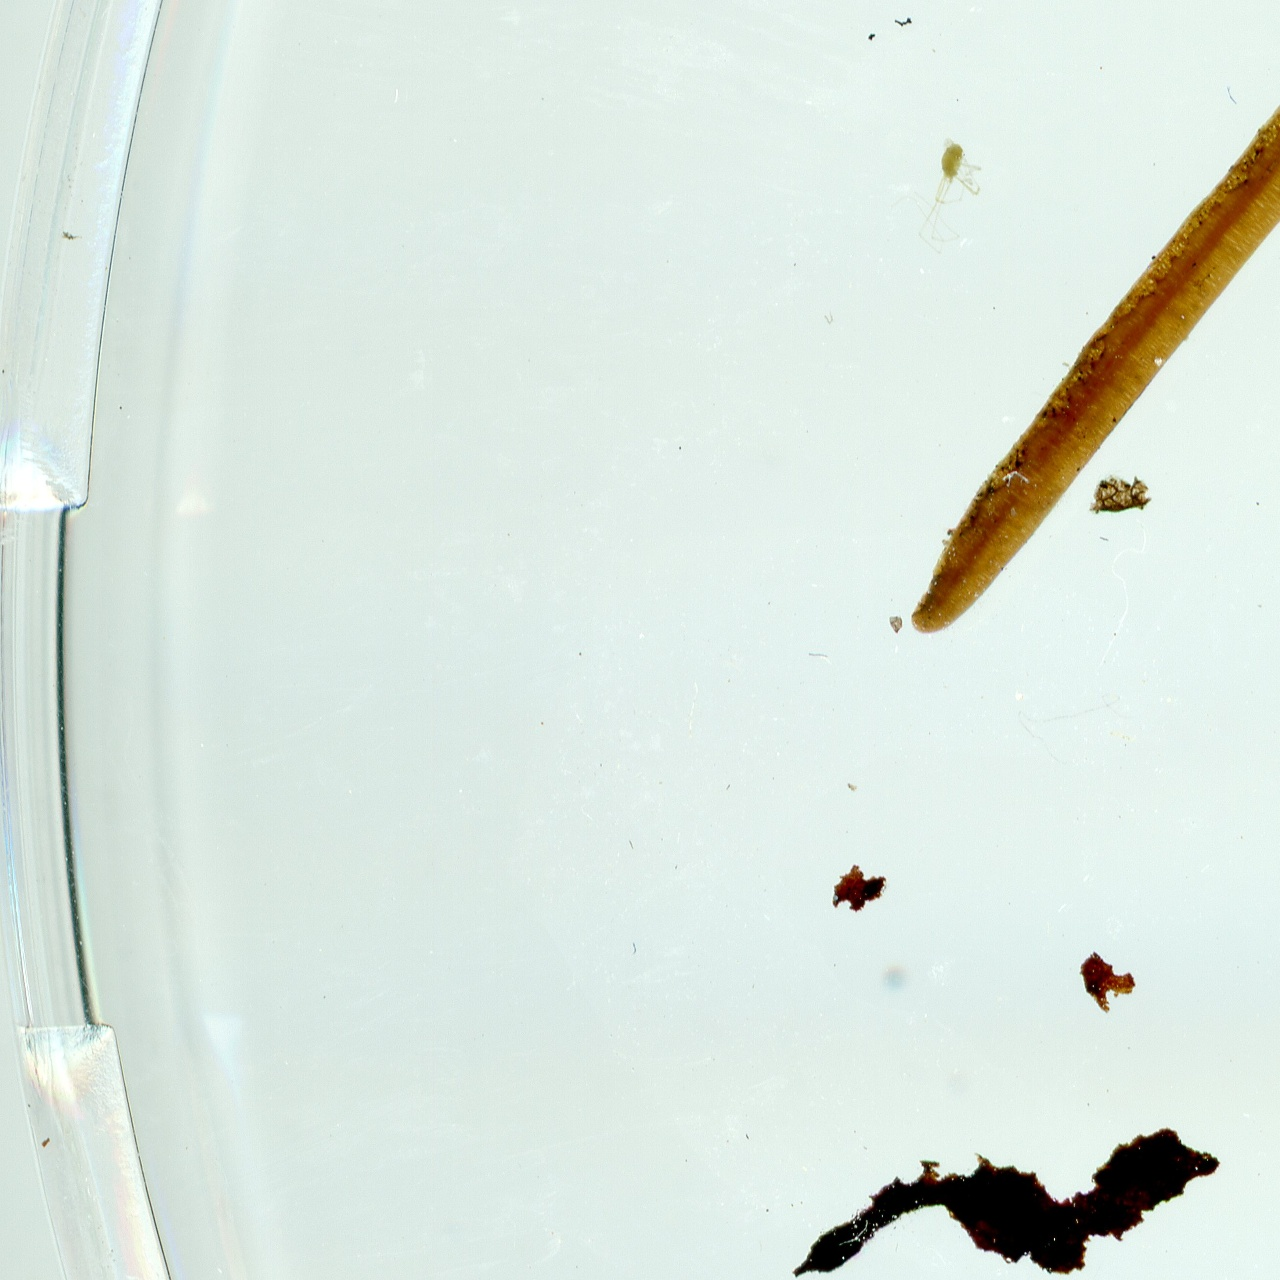arthropod: (875, 122, 999, 268)
